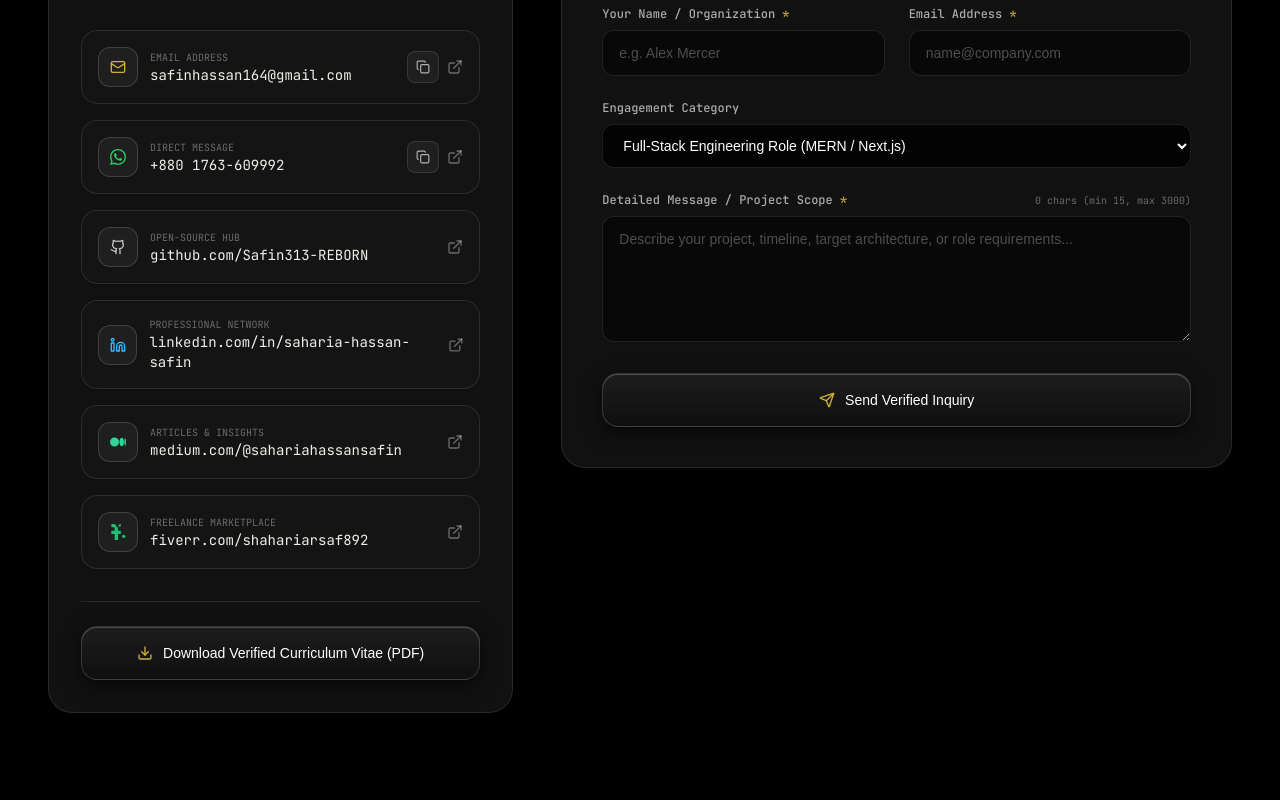
Scenario: ContactSection User Journey & Boundary Validation › prevents submission and displays inline validation errors for empty fields
(page scrolled)
Click the button "Send Verified Inquiry".
click(897, 400)  # box [602,373,1191,427]
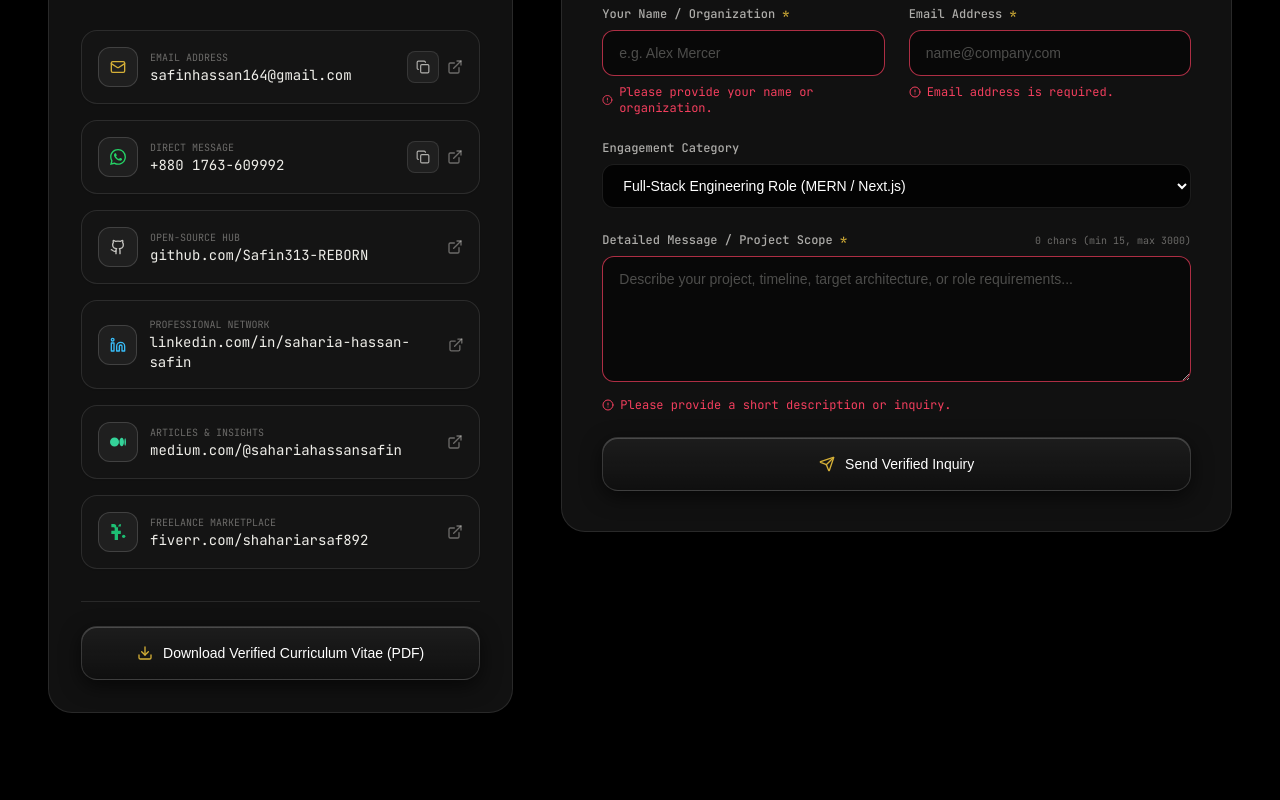
expect the text "Please provide your name or organization." is shown: met, box [619,84,814,116]
expect the text "Email address is required." is shown: met, box [927,84,1114,100]
expect the text "Please provide a short description or inquiry." is shown: met, box [620,397,952,413]
